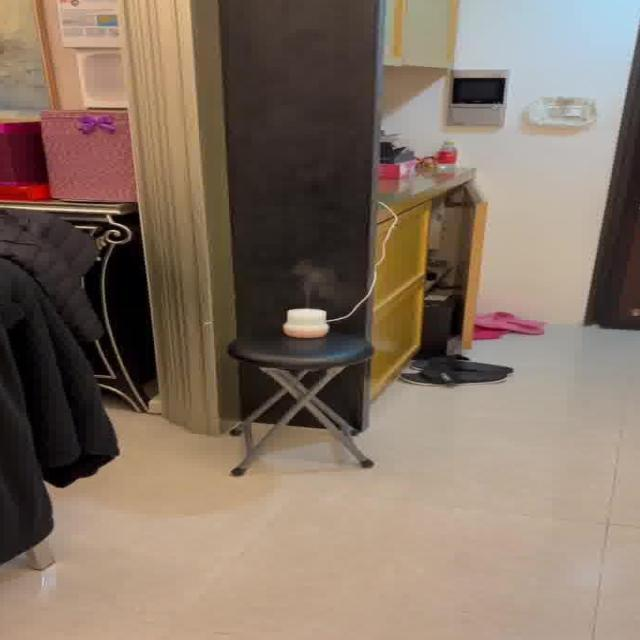fire: (285, 252, 344, 304)
